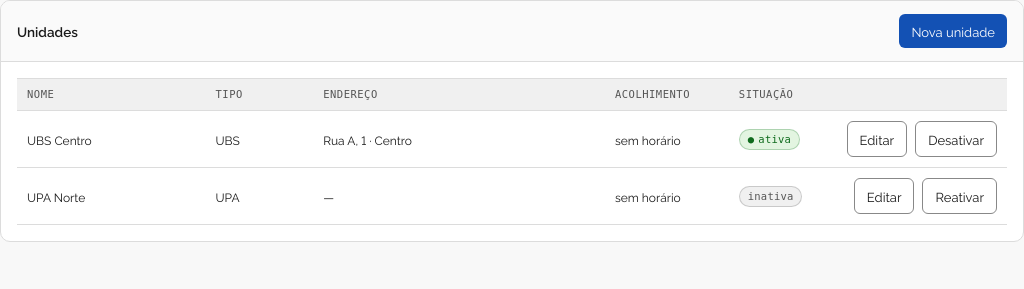
Test: Units › mostra a frase de unit_has_open_attendances ao tentar desativar
Step 1. Click the button "Desativar" → click(956, 139), box [915, 121, 997, 157]
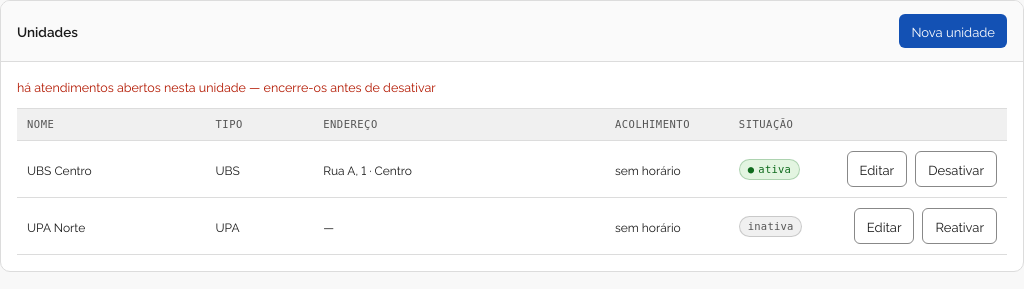
Check: the text "há atendimentos abertos nesta unidade — encerre-os antes de desativar" is shown, box [17, 78, 436, 95]
